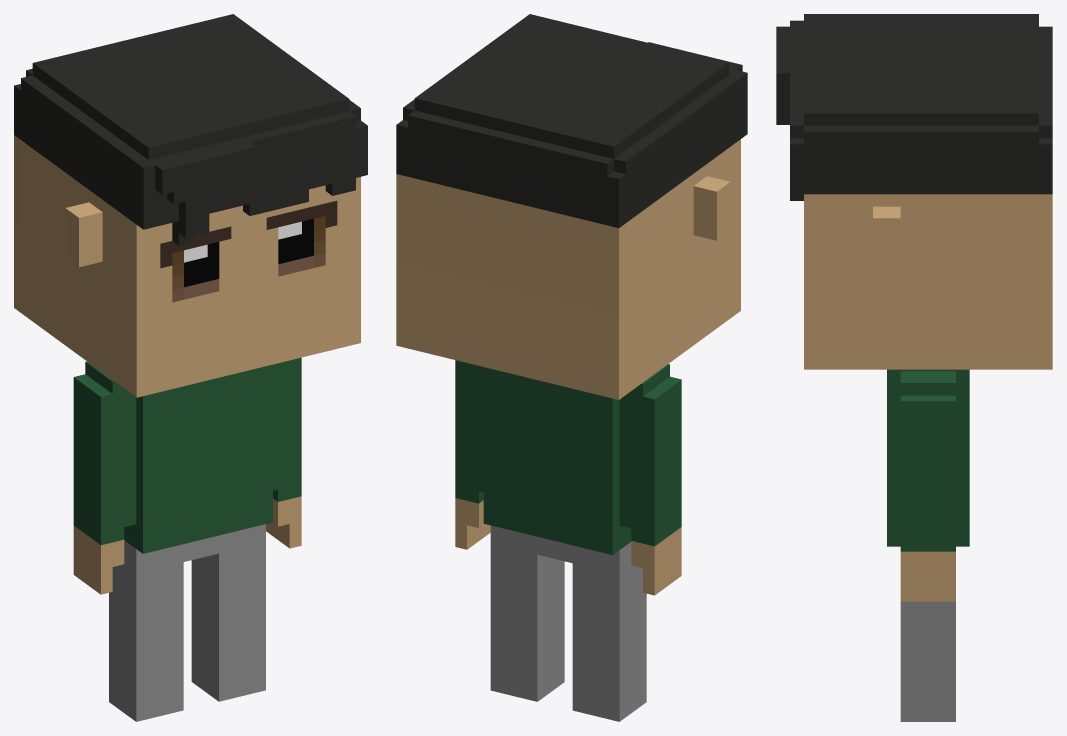
3 views of the same model, side by side, from view 1: azimuth 30°, elevation 25°; view 2: azimuth 150°, elevation 25°; view 3: azimuth 270°, elevation 25° (orthographic). The views are drawn at different scales.
Visible parts, largest first — view 1: voxme; view 2: voxme; view 3: voxme.
Part boxes in pixels (left/top/right/bottom): voxme: left=14, top=14, right=367, bottom=721; voxme: left=396, top=14, right=747, bottom=721; voxme: left=776, top=14, right=1052, bottom=721.
Size of the model in its own units: 2.3 by 5 by 2.
1 material, 1 textured.
